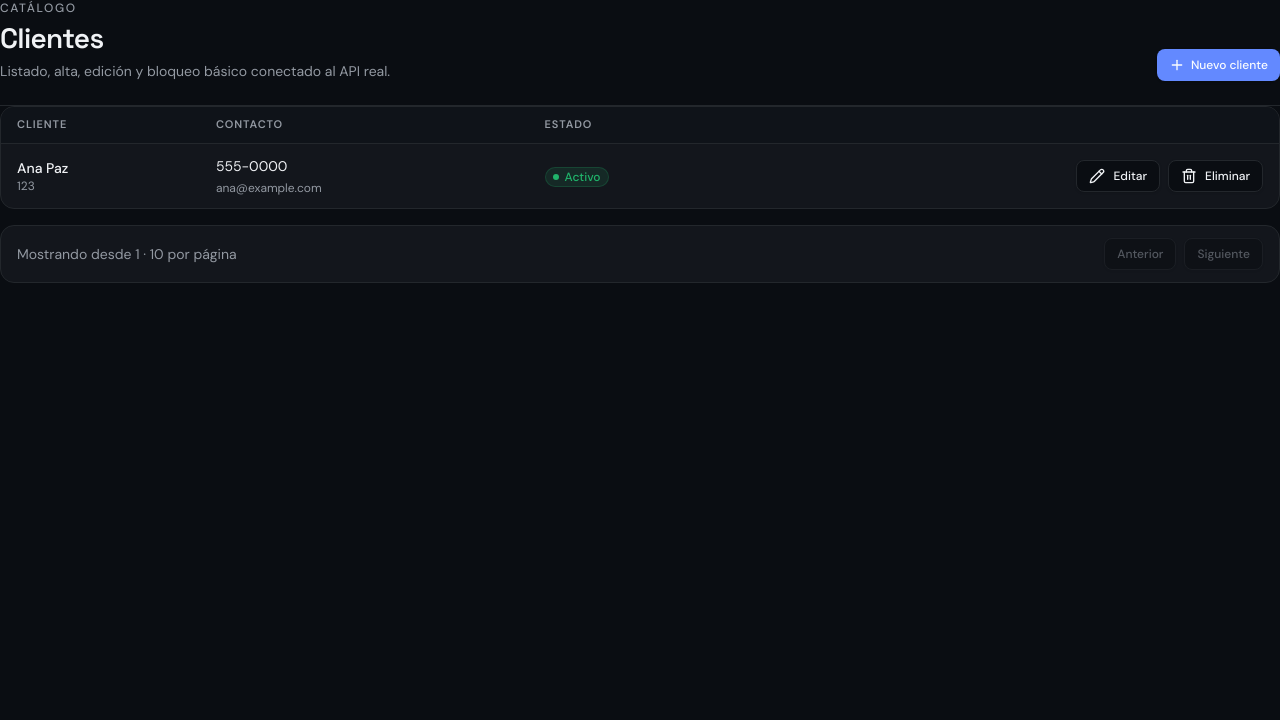
Test: CustomersCrudPage › refreshes the visible customer rows after deleting a customer
Check: the text "Ana Paz" is shown, box [17,159,68,177]
Click the button "Eliminar": (1216, 176) [1168,160,1263,192]
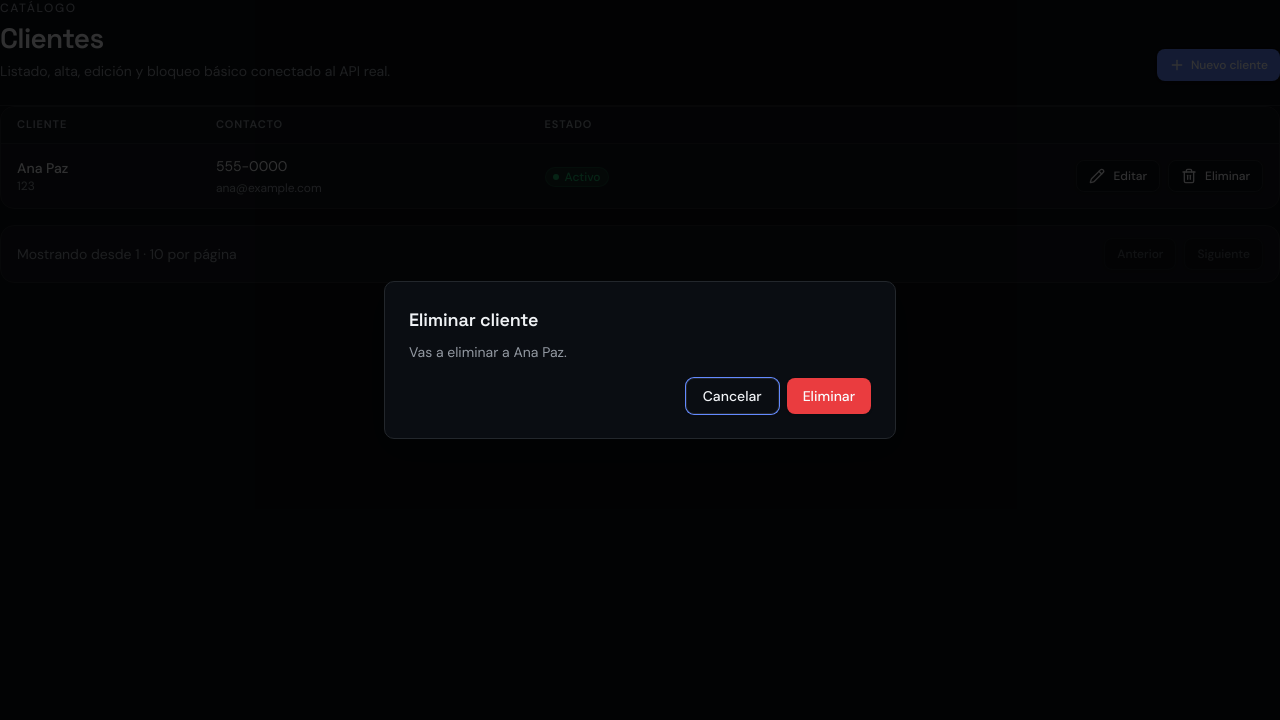
Click the button "Eliminar": (829, 396) [787,378,871,414]
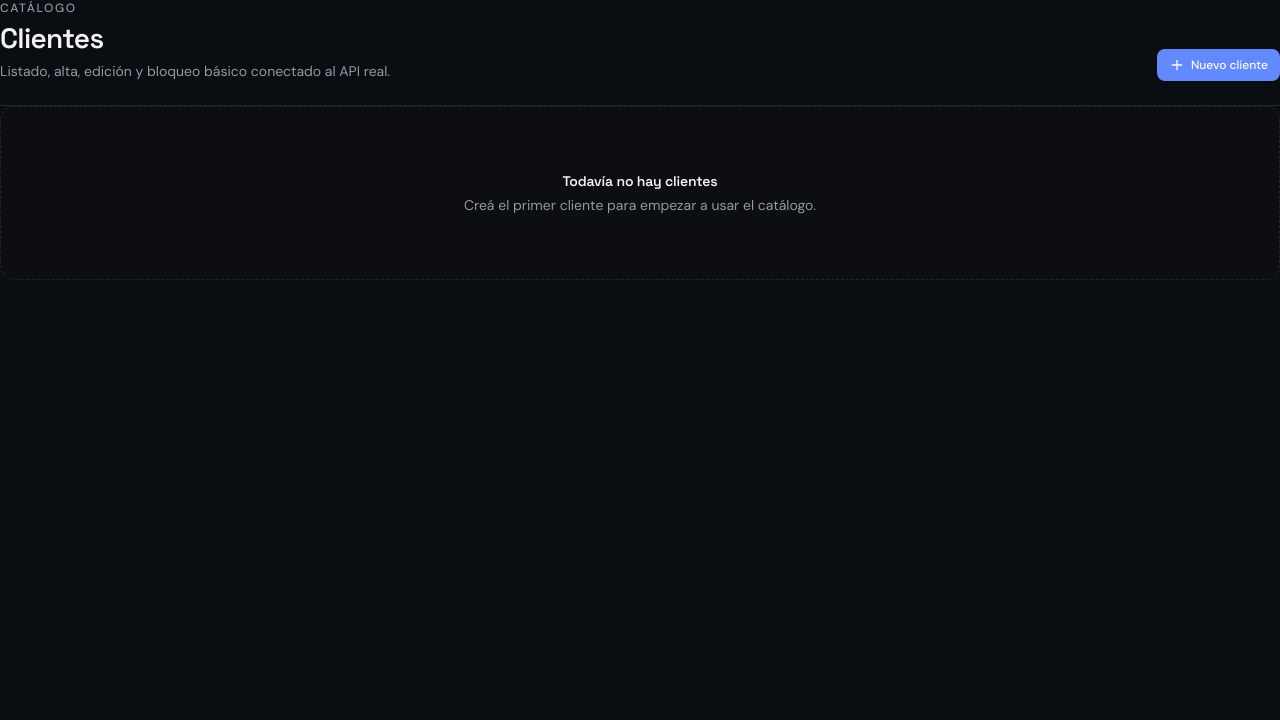
Check: the text "Ana Paz" is gone
Check: the heading "Todavía no hay clientes" is shown, box [562,171,718,191]
